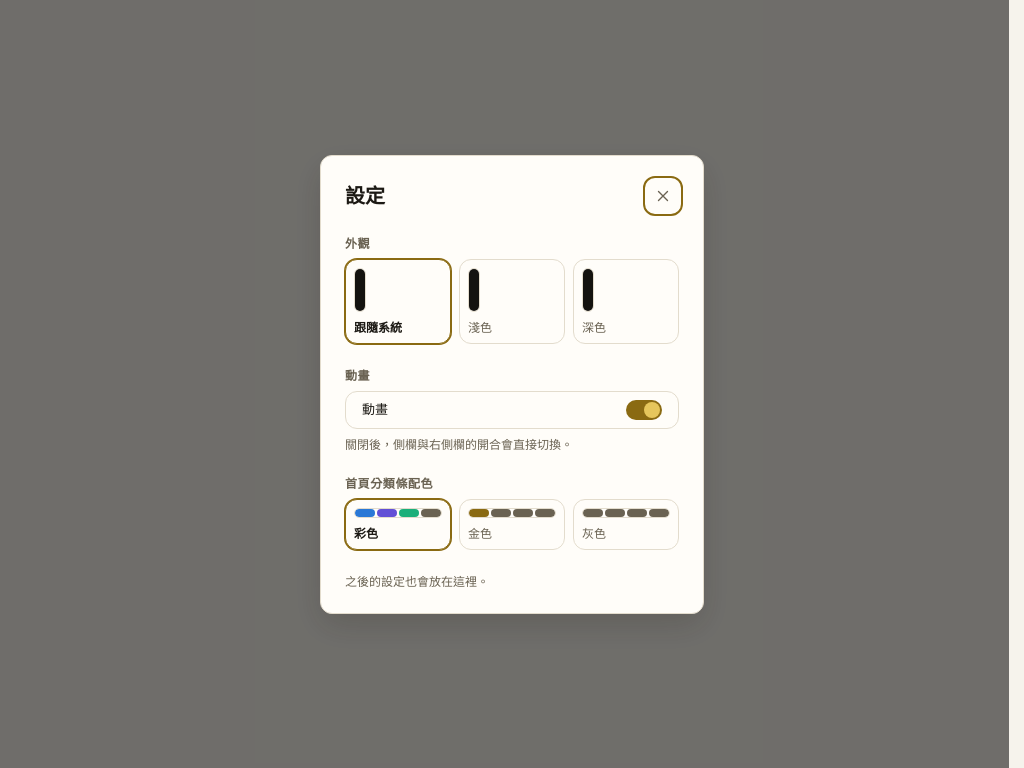
it: SettingsDialog › applies and remembers the chosen appearance
Click the radio button labelled "淺色". click: (512, 301)
box: top-left (459, 258), bottom-right (565, 344)
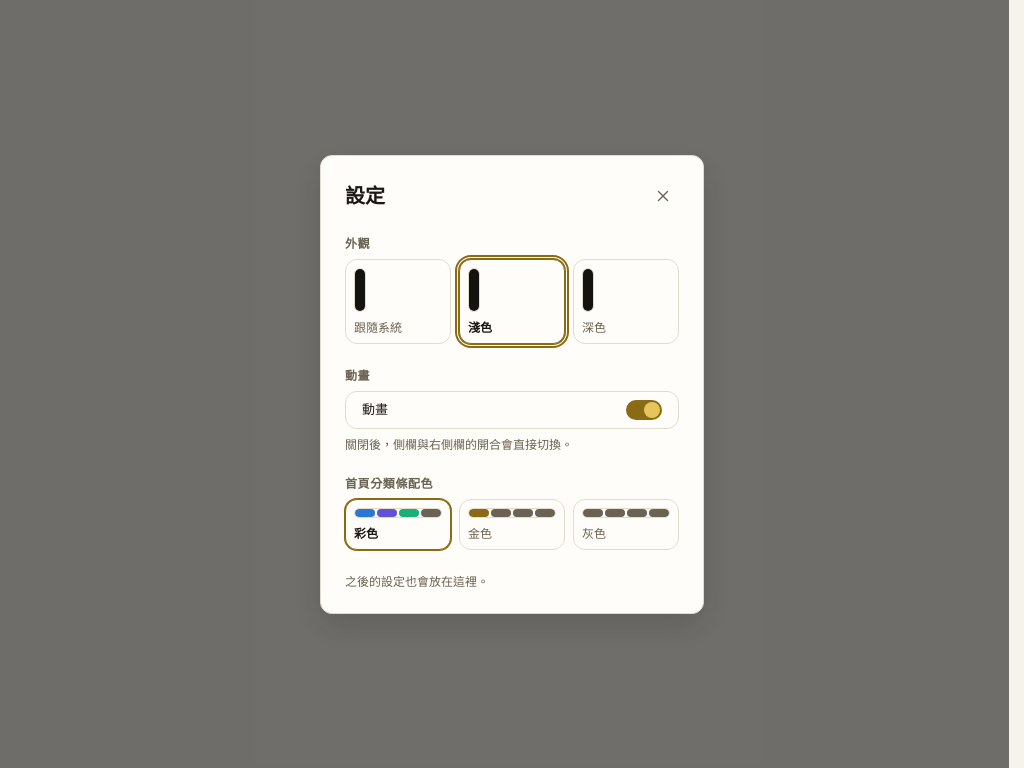
Check: the radio button labelled "淺色" is checked, box top-left (459, 258), bottom-right (565, 344)
Check: the radio button labelled "跟隨系統" is not checked, box top-left (345, 258), bottom-right (451, 344)
